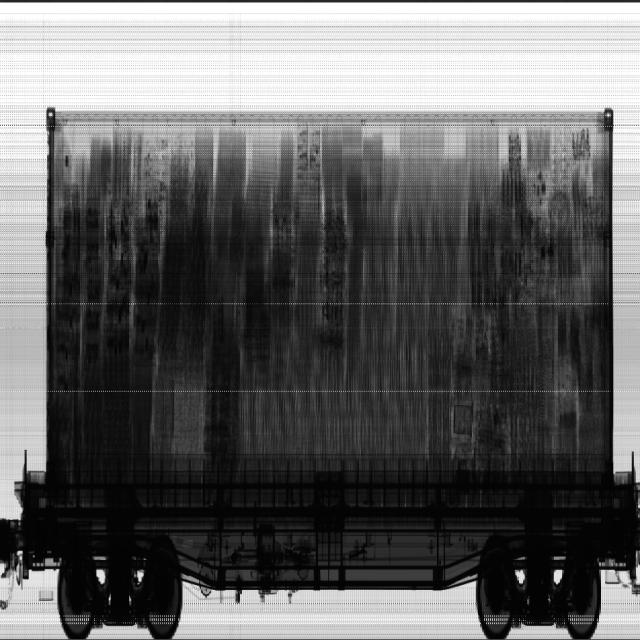spare parts: (53, 195, 166, 452)
